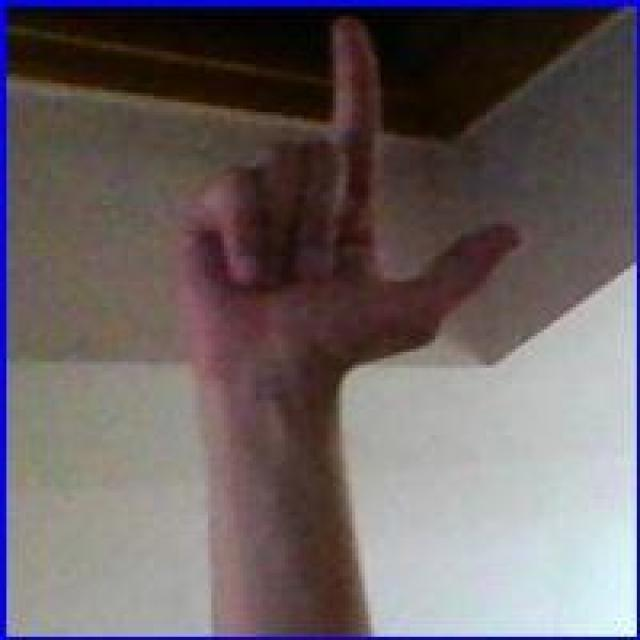L: (162, 16, 532, 400)
